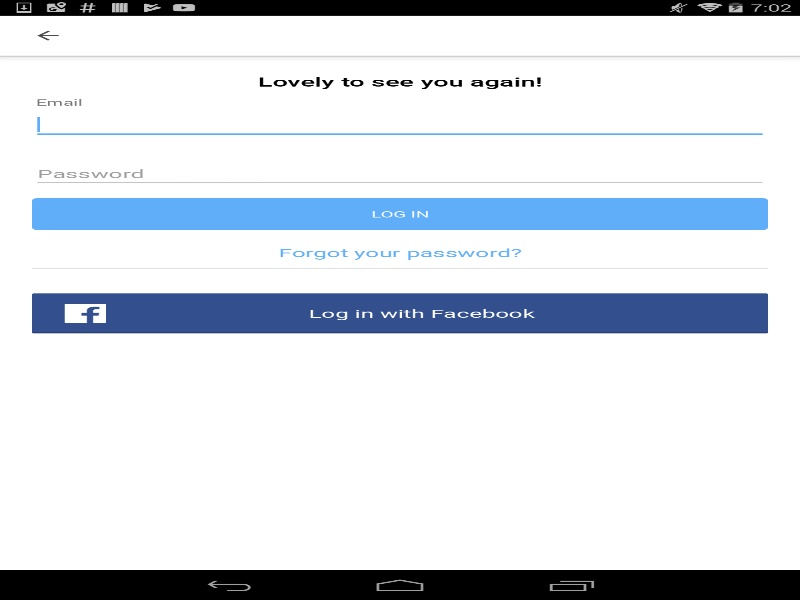Button: (32, 293, 768, 333), (32, 198, 768, 230), (10, 15, 85, 55)
Input: (32, 110, 768, 139), (32, 159, 768, 188)
